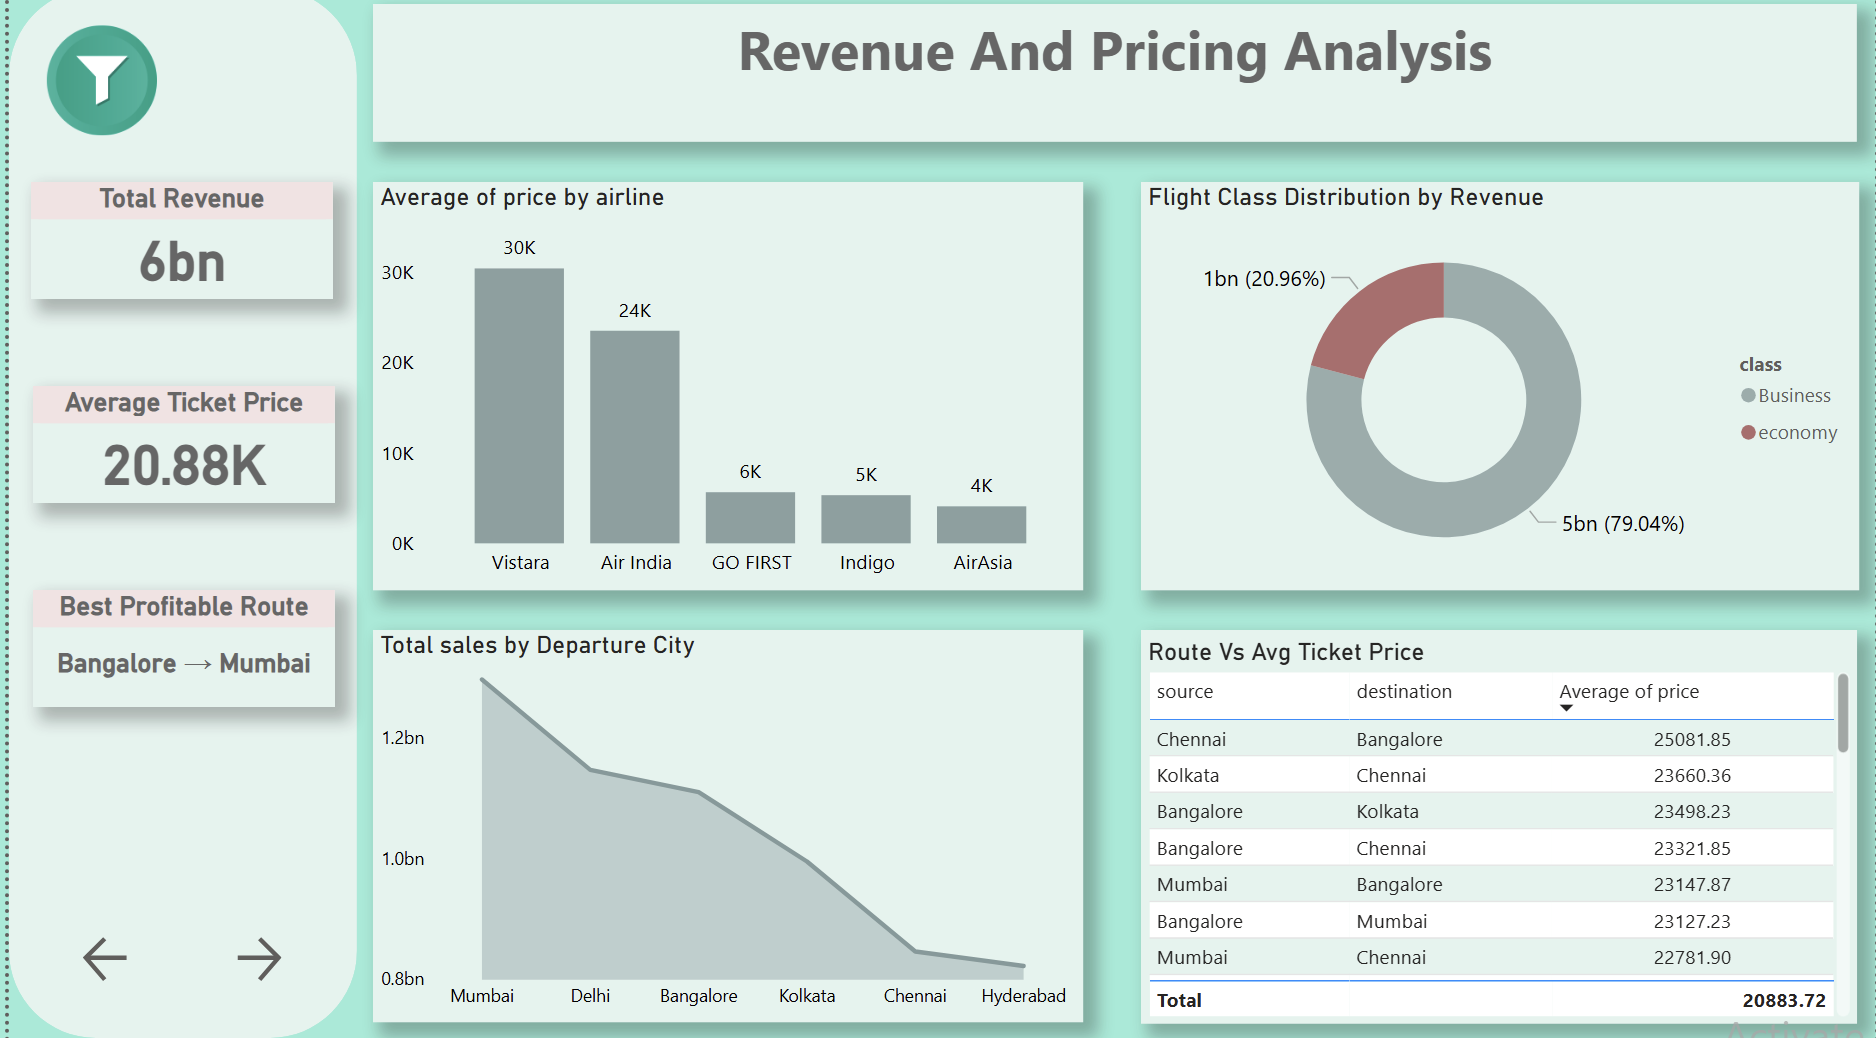

The dashboard page shown, as its layout file describes it:
{"tool":"powerbi","page":{"name":"Revenue & Pricing Analysis ","canvas":[1280,720],"ordinal":1},"visuals":[{"type":"clusteredColumnChart","fields":{"Category":["cleaned_flight_data.airline"],"Y":["Avg(cleaned_flight_data.price)"]},"box":[249.6,133,486.9,279.8],"z":0},{"type":"donutChart","title":"Flight Class Distribution by Revenue","fields":{"Category":["cleaned_flight_data.class"],"Y":["cleaned_flight_data.total sales"]},"box":[776.2,133,492.3,279.8],"z":1000},{"type":"areaChart","title":"Total sales by Departure City","fields":{"Category":["cleaned_flight_data.source"],"Y":["cleaned_flight_data.total sales"]},"box":[249.6,440.2,486.9,268.8],"z":2000},{"type":"tableEx","title":"Route Vs Avg Ticket Price","fields":{"Values":["cleaned_flight_data.source","cleaned_flight_data.destination","Avg(cleaned_flight_data.price)"]},"box":[776.2,440.2,491,270.2],"z":3000},{"type":"shape","box":[0,0,238.6,720],"z":4000},{"type":"textbox","box":[249.6,11,1017.6,94.6],"z":5000},{"type":"card","title":"Total Revenue","fields":{"Values":["cleaned_flight_data.total sales"]},"box":[15.7,132.9,207.1,80],"z":6000},{"type":"card","title":"Average Ticket Price","fields":{"Values":["Avg(cleaned_flight_data.price)"]},"box":[17.1,272.9,207.1,80],"z":7000},{"type":"card","title":"Best Profitable Route","fields":{"Values":["cleaned_flight_data.Most Profitable Route"]},"box":[17.1,412.9,207.1,80],"z":8000},{"type":"image","box":[17.1,20,94.3,85.7],"z":9000},{"type":"actionButton","box":[151.4,645.7,71.4,40],"z":10000},{"type":"actionButton","box":[47.1,645.7,72.9,40],"z":11000}]}

Visuals, with their boxes in screenshot pixels (x1, y1, x2, y2), scaled from the page's 1280x720 canvas onto the 1876x1038 screenshot:
clusteredColumnChart - cleaned_flight_data.airline x Avg(cleaned_flight_data.price): [x1=366, y1=192, x2=1079, y2=595]
"Flight Class Distribution by Revenue" donutChart: [x1=1138, y1=192, x2=1859, y2=595]
"Total sales by Departure City" areaChart: [x1=366, y1=635, x2=1079, y2=1022]
"Route Vs Avg Ticket Price" tableEx: [x1=1138, y1=635, x2=1857, y2=1024]
shape: [x1=0, y1=0, x2=350, y2=1037]
textbox: [x1=366, y1=16, x2=1857, y2=152]
"Total Revenue" card: [x1=23, y1=192, x2=327, y2=307]
"Average Ticket Price" card: [x1=25, y1=393, x2=329, y2=509]
"Best Profitable Route" card: [x1=25, y1=595, x2=329, y2=711]
image: [x1=25, y1=29, x2=163, y2=152]
actionButton: [x1=222, y1=931, x2=327, y2=989]
actionButton: [x1=69, y1=931, x2=176, y2=989]
